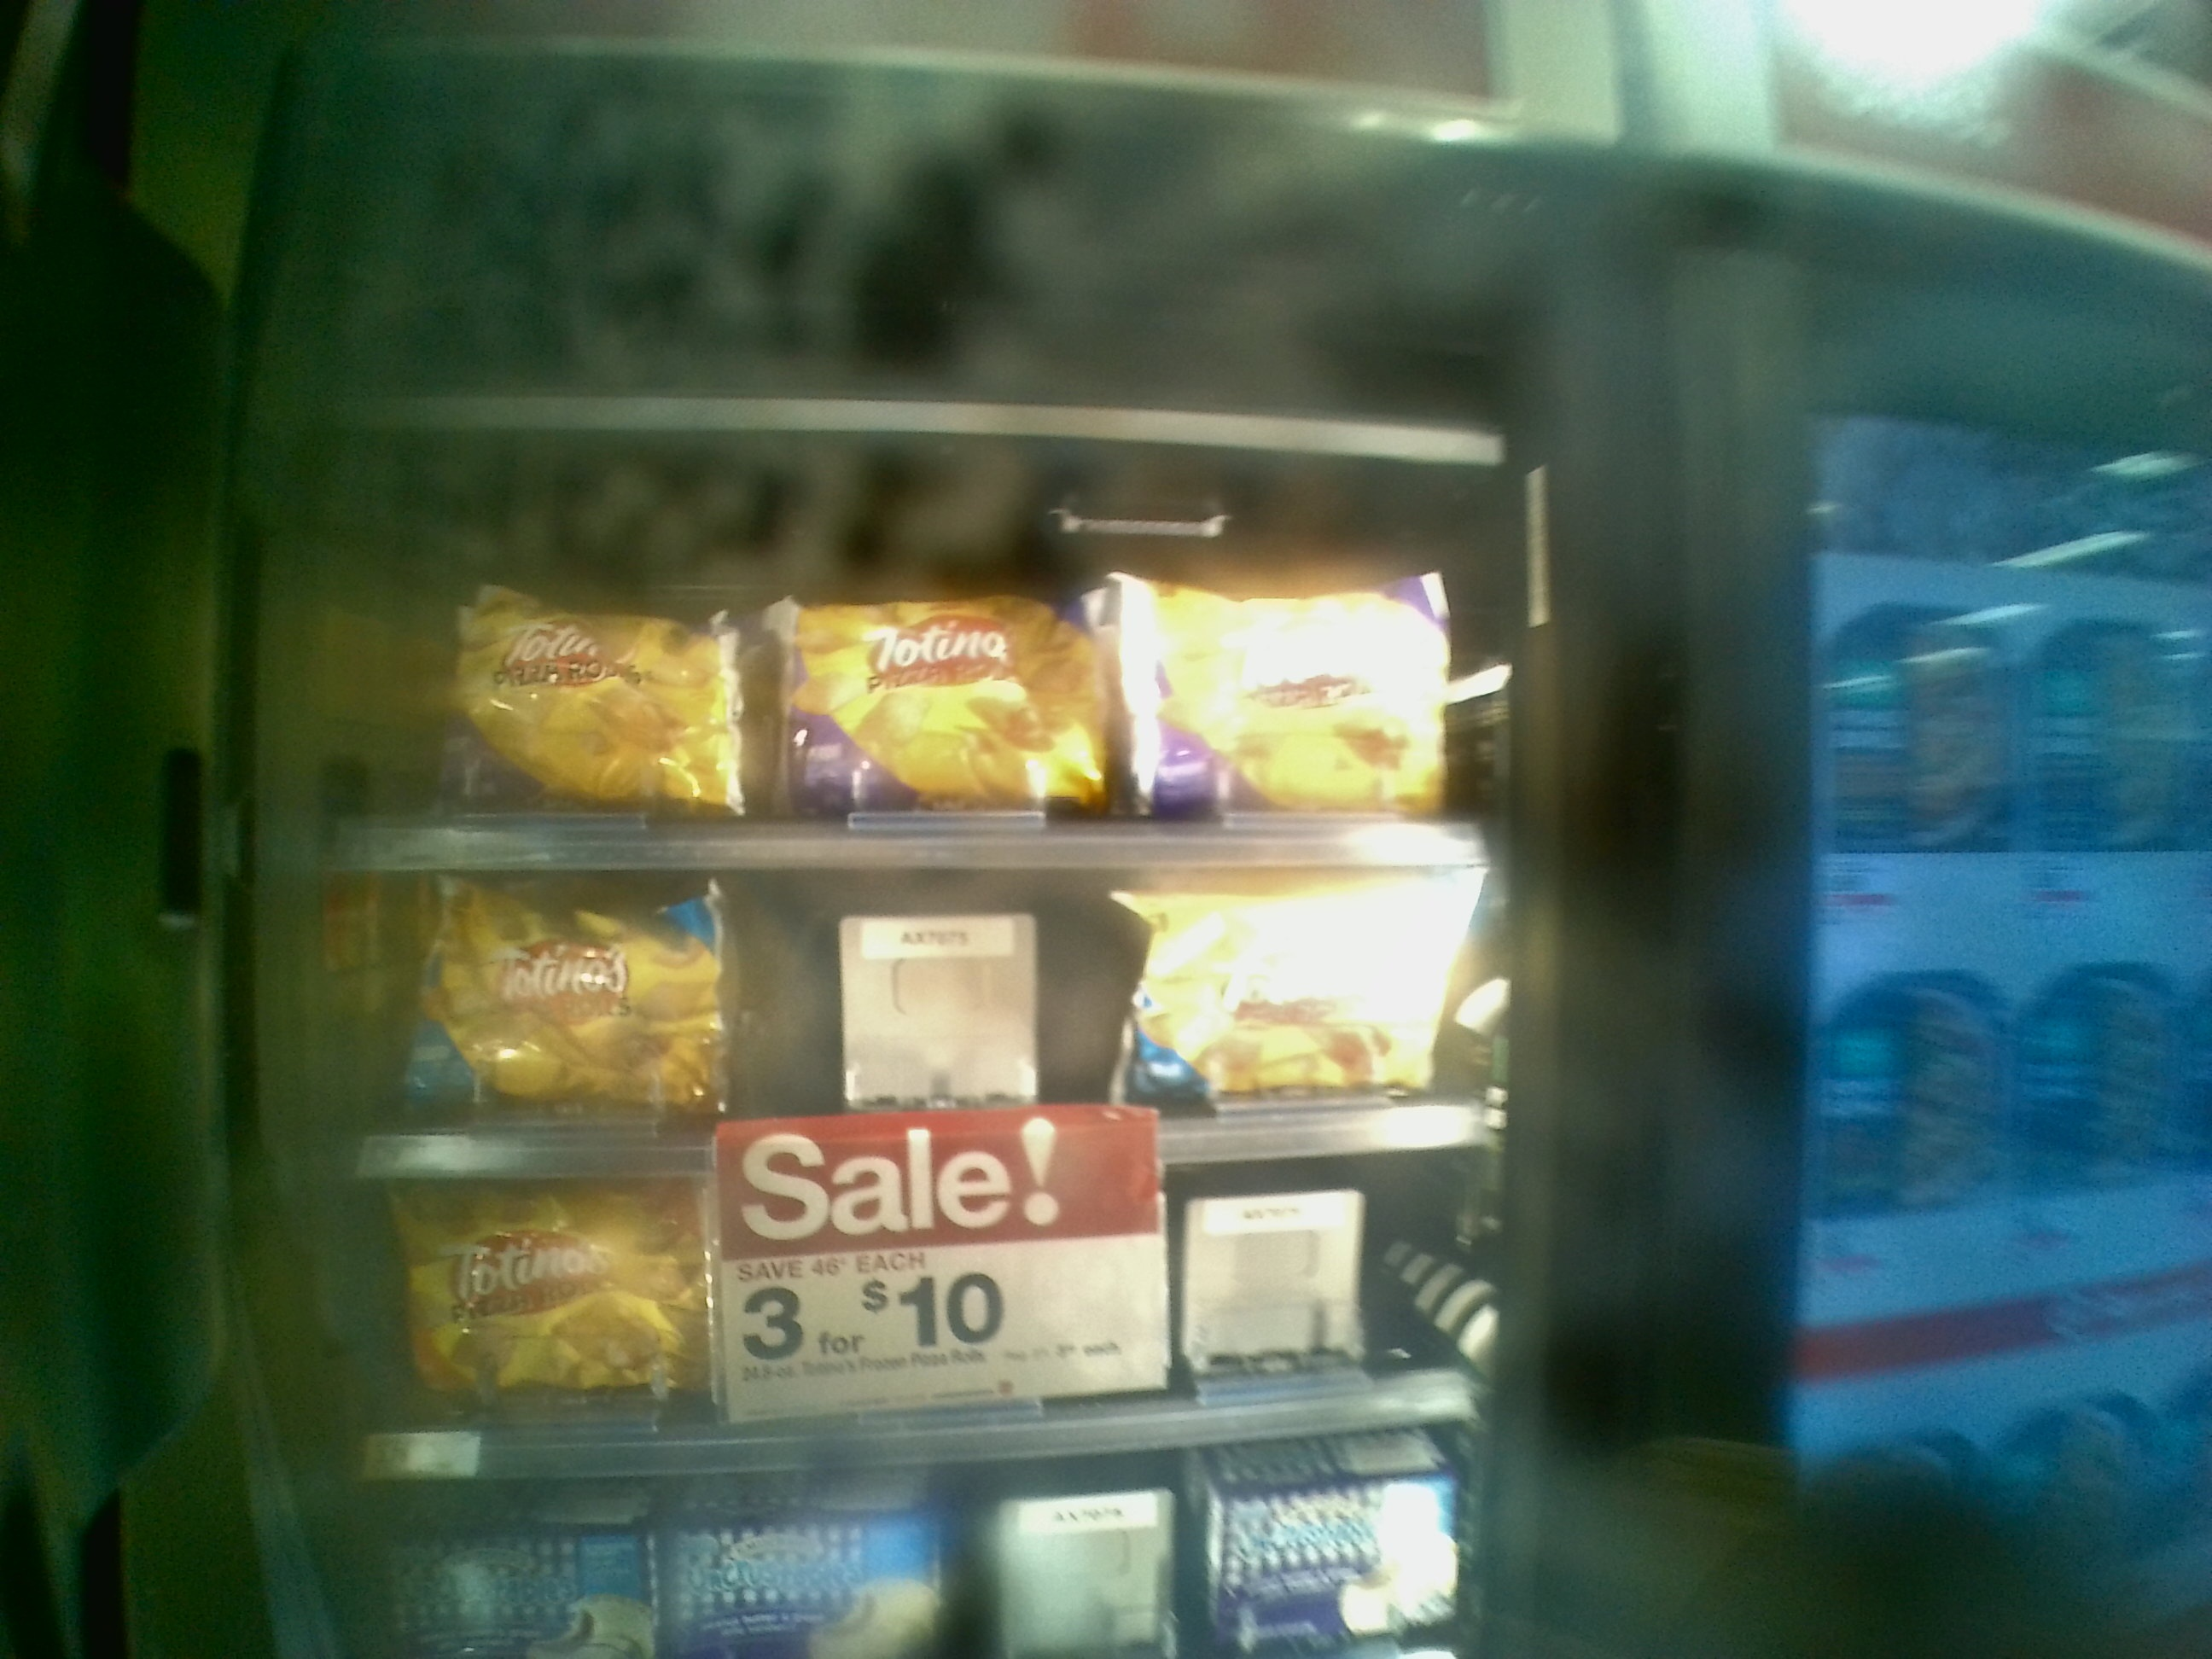shelf: (333, 443, 1510, 861), (319, 852, 1489, 1173), (315, 1182, 1498, 1434)
